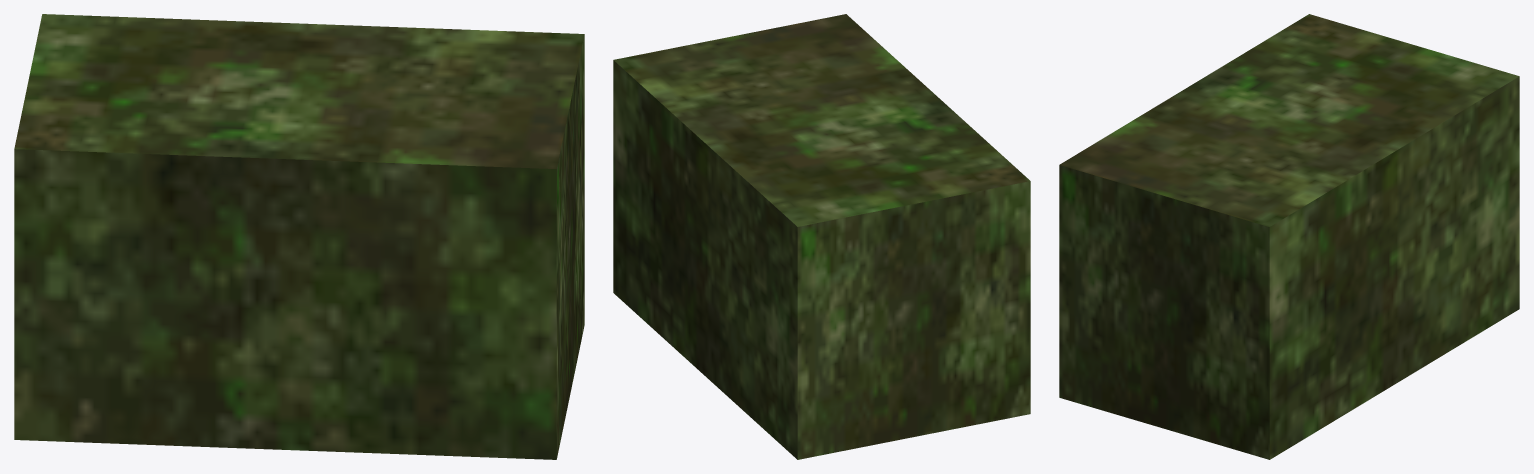
The model's file is OVERHILL_A_01_STONE_BLOCK_01.fbx.
The picture shows the model from 3 angles, left to right: view 1: azimuth 30°, elevation 25°; view 2: azimuth 150°, elevation 25°; view 3: azimuth 270°, elevation 25°; orthographic projection. The views are drawn at different scales.
Parts seen in each view (by area): view 1: OVERHILL_A_01_STONE_BLOCK_01; view 2: OVERHILL_A_01_STONE_BLOCK_01; view 3: OVERHILL_A_01_STONE_BLOCK_01.
Part boxes in pixels (bbox=[...]): OVERHILL_A_01_STONE_BLOCK_01: bbox=[14, 14, 584, 459]; OVERHILL_A_01_STONE_BLOCK_01: bbox=[613, 14, 1030, 459]; OVERHILL_A_01_STONE_BLOCK_01: bbox=[1059, 14, 1519, 459].
Size of the model in its own units: 15536 by 7913 by 14182.
Materials: 1 (1 with a texture image).
